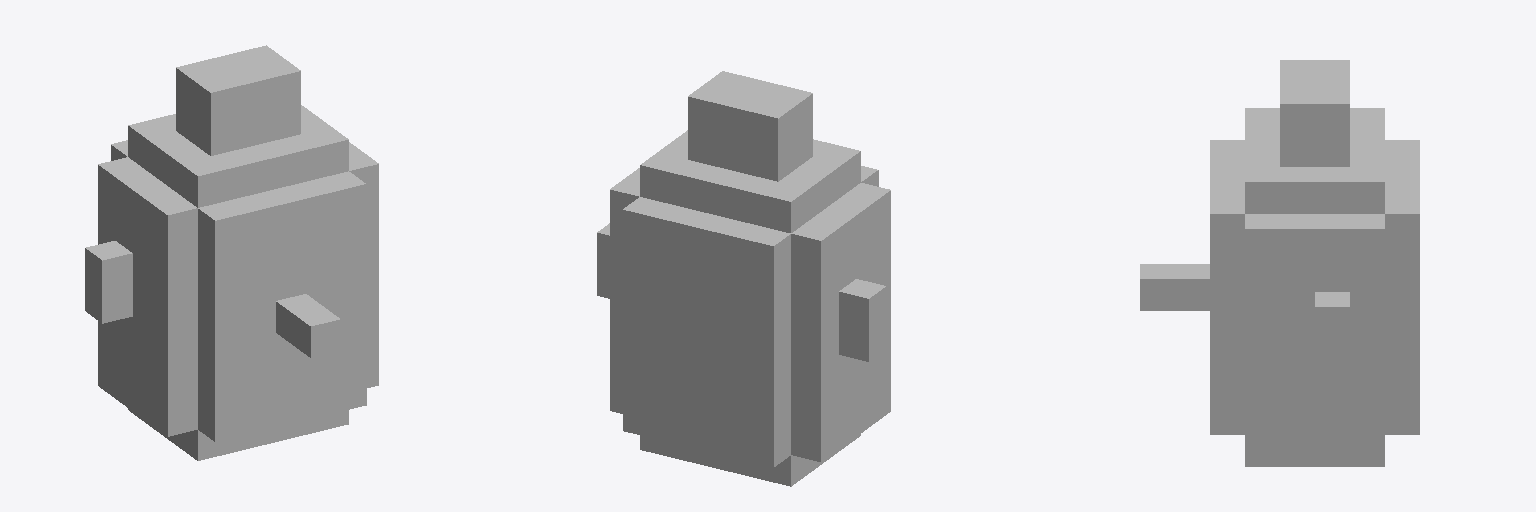
Rendered from Head.obj.
3 renders of one model, left to right at view 1: azimuth 30°, elevation 25°; view 2: azimuth 150°, elevation 25°; view 3: azimuth 270°, elevation 25°, orthographic.
Visible parts, largest first — view 1: object 1; view 2: object 1; view 3: object 1.
Boxes of the visible parts, x1=… form: object 1: x1=85, y1=45, x2=378, y2=460; object 1: x1=597, y1=71, x2=890, y2=486; object 1: x1=1140, y1=60, x2=1419, y2=466.
Bounding box in the file's own units: 0.9 × 1.1 × 0.8.